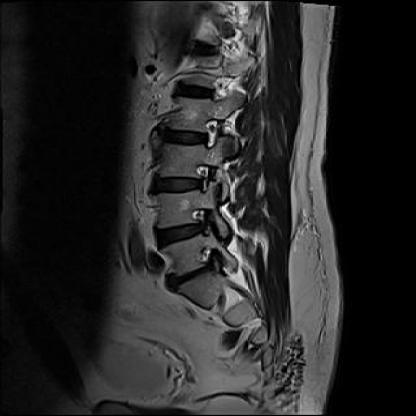Degenerative Disc Diseaserotation: (146, 162, 218, 196), (145, 212, 212, 246), (156, 260, 233, 287)
Disc Bulgerotation: (146, 163, 219, 197), (146, 211, 214, 247), (159, 259, 234, 286)
